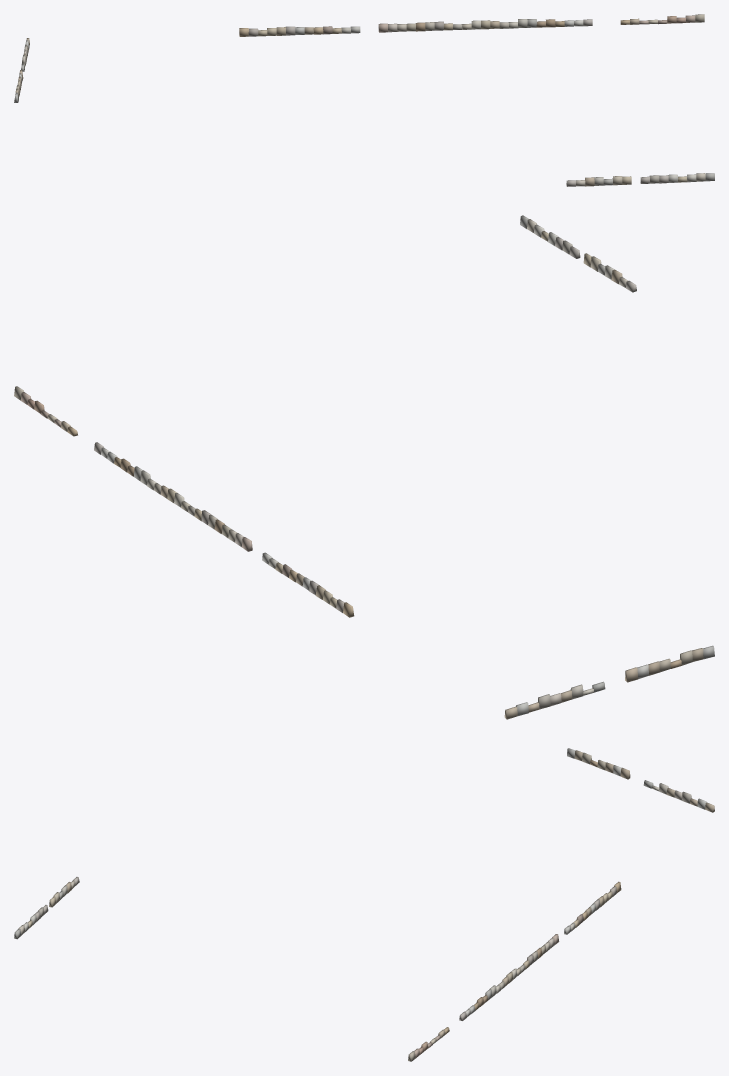
The model's file is farm_20_12_far.glb.
3 renders of one model, top to bottom at view 1: azimuth 30°, elevation 25°; view 2: azimuth 150°, elevation 25°; view 3: azimuth 270°, elevation 25°, orthographic. The views are drawn at different scales.
Visible parts, largest first — view 1: geometry_0; view 2: geometry_0; view 3: geometry_0.
Part boxes in pixels (bbox=[...]): geometry_0: bbox=[14, 14, 714, 186]; geometry_0: bbox=[14, 215, 714, 719]; geometry_0: bbox=[14, 748, 714, 1061].
Bounding box in the file's own units: 121 × 8.56 × 120.
